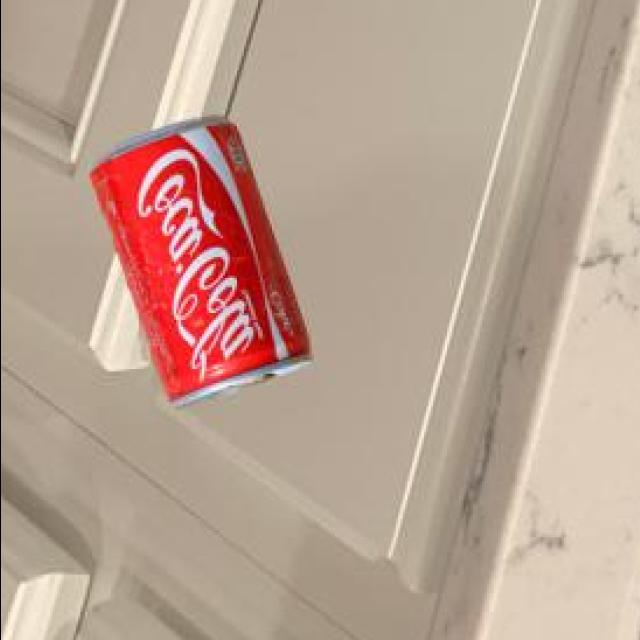logam: (92, 120, 314, 412)
